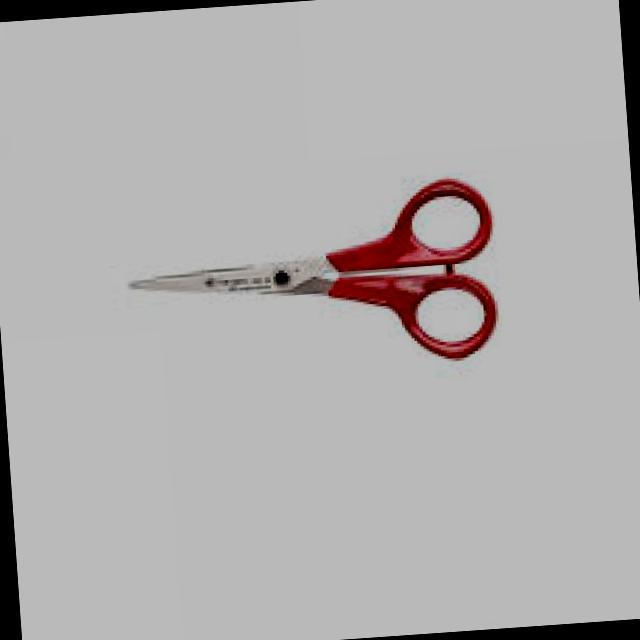Scissors: (100, 154, 540, 408)
